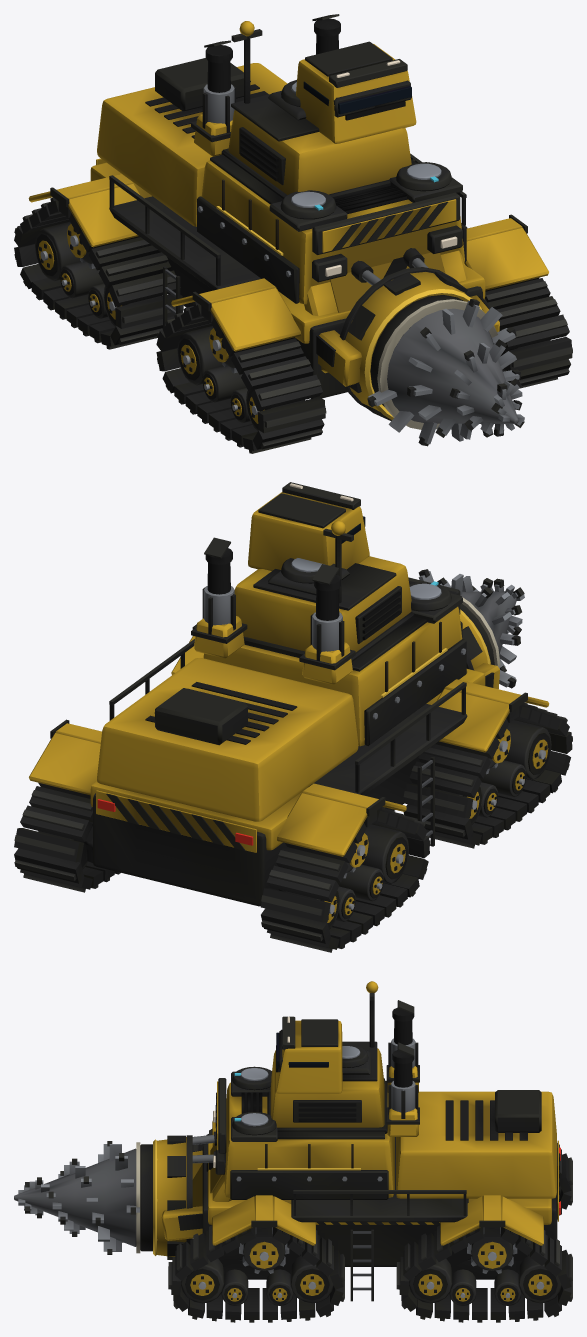
File: ex_crawler_7.glb
3 views of the same model, one above another, from view 1: azimuth 30°, elevation 25°; view 2: azimuth 150°, elevation 25°; view 3: azimuth 270°, elevation 25° (orthographic). The views are drawn at different scales.
Parts seen in each view (by area): view 1: body, drill, wheel_17, wheel_7, wheel_8, wheel_18; view 2: body, drill, wheel_6, wheel_16, wheel_9, wheel_19; view 3: body, drill, wheel_12, wheel_2, wheel_1, wheel_11, wheel_0, wheel_10, wheel_4, wheel_14, wheel_13, wheel_3.
Part boxes in pixels (x1=…): body: x1=14, y1=14, x2=572, y2=453; drill: x1=367, y1=295, x2=524, y2=446; wheel_17: x1=35, y1=221, x2=80, y2=280; wheel_7: x1=177, y1=326, x2=222, y2=385; wheel_8: x1=202, y1=366, x2=246, y2=402; wheel_18: x1=60, y1=261, x2=103, y2=298; body: x1=14, y1=482, x2=572, y2=952; drill: x1=418, y1=569, x2=524, y2=688; wheel_6: x1=504, y1=720, x2=551, y2=779; wheel_16: x1=361, y1=824, x2=408, y2=884; wheel_9: x1=479, y1=760, x2=526, y2=797; wheel_19: x1=337, y1=864, x2=383, y2=901; body: x1=153, y1=981, x2=572, y2=1322; drill: x1=14, y1=1141, x2=152, y2=1254; wheel_12: x1=518, y1=1255, x2=561, y2=1303; wheel_2: x1=290, y1=1255, x2=333, y2=1303; wheel_1: x1=181, y1=1258, x2=224, y2=1303; wheel_11: x1=409, y1=1258, x2=452, y2=1303; wheel_0: x1=239, y1=1227, x2=289, y2=1273; wheel_10: x1=467, y1=1227, x2=517, y2=1273; wheel_4: x1=221, y1=1269, x2=248, y2=1305; wheel_14: x1=449, y1=1269, x2=476, y2=1305; wheel_13: x1=494, y1=1269, x2=521, y2=1305; wheel_3: x1=266, y1=1269, x2=293, y2=1305.
Size of the model in its own units: 8.25 by 8.12 by 15.64.
